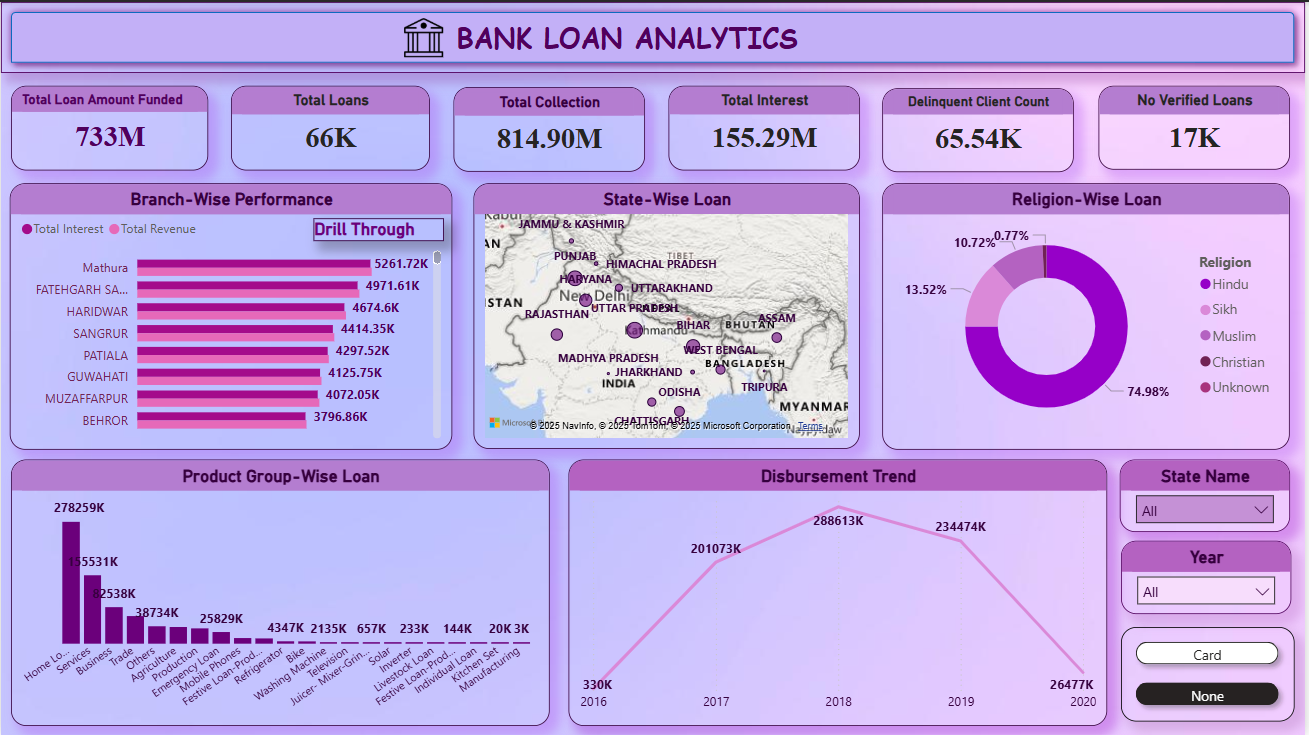

The dashboard page shown, as its layout file describes it:
{"tool":"tableau","page":{"name":"Dashboard 1","canvas":[1000,1000],"units":"permille","ordinal":0},"visuals":[{"type":"title","box":[4.8,10,919.7,64.9]},{"type":"filter","title":"State-Wise Performance","param":"[federated.1kfujmh1aarebc15erkji1qe8vi7].[none:State_Name:nk]","box":[924.6,10,70.6,295.2]},{"type":"worksheet","title":"Total loan amount funded","mark":"Text","box":[4.8,75.8,167.2,94.5]},{"type":"worksheet","title":"Total Collection","mark":"Automatic","box":[172,75.8,139.4,94.5]},{"type":"worksheet","title":"Total Loans","mark":"Automatic","box":[311.4,75.8,163,94.5]},{"type":"worksheet","title":"No Verified Loans","mark":"Automatic","box":[474.4,75.8,150.1,94.5]},{"type":"worksheet","title":"Default Loan Count","mark":"Automatic","box":[624.4,75.8,150.1,94.5]},{"type":"worksheet","title":"Total Interest","mark":"Automatic","box":[774.5,75.8,150.1,94.5]},{"type":"worksheet","title":"Religion-Wise Loan Distribution","mark":"Pie","box":[4.8,170.3,285.8,328.5]},{"type":"worksheet","title":"Loan Status-Wise Loan","mark":"Circle","rows":["Calculation_873416870375927813","Calculation_873416870375940103"],"box":[290.6,170.3,261.6,328.5]},{"type":"worksheet","title":"Product Group-Wise Loan","mark":"Bar","rows":["Loan_Amount"],"cols":["Purpose_Category"],"box":[552.2,170.3,372.3,328.5]},{"type":"filter","title":"Disbursement Trend","param":"[federated.1kfujmh1aarebc15erkji1qe8vi7].[mn:Disbursement_Date:qk]","box":[924.6,305.2,70.6,96.1]},{"type":"filter","title":"Loan Status-Wise Loan","param":"[federated.1kfujmh1aarebc15erkji1qe8vi7].[none:Loan_Status:nk]","box":[924.6,401.4,70.6,295.2]},{"type":"worksheet","title":"State-Wise Performance","mark":"Automatic","rows":["State_Name"],"cols":["Total_Fees"],"box":[4.8,498.8,285.8,491.2]},{"type":"worksheet","title":"State-Wise Loan Distribution","mark":"Automatic","box":[290.6,498.8,261.6,491.2]},{"type":"worksheet","title":"Disbursement Trend","mark":"Automatic","rows":["Loan_Amount"],"cols":["Disbursement_Date"],"box":[552.2,498.8,372.4,491.2]},{"type":"filter","title":"State-Wise Performance","param":"[federated.1kfujmh1aarebc15erkji1qe8vi7].[none:Grade:nk]","box":[924.6,696.6,70.6,293.4]}]}

Visuals, with their boxes on the dashboard's canvas, which has no fixed pixel size, in thousandths of its width and height (x1, y1, x2, y2). These are canvas units, not pixel positions in the 1309x735 screenshot, which may show the page scaled, cropped or inside an application window:
title: [x1=5, y1=10, x2=924, y2=75]
"State-Wise Performance" filter: [x1=925, y1=10, x2=995, y2=305]
"Total loan amount funded" worksheet (Text marks): [x1=5, y1=76, x2=172, y2=170]
"Total Collection" worksheet: [x1=172, y1=76, x2=311, y2=170]
"Total Loans" worksheet: [x1=311, y1=76, x2=474, y2=170]
"No Verified Loans" worksheet: [x1=474, y1=76, x2=624, y2=170]
"Default Loan Count" worksheet: [x1=624, y1=76, x2=774, y2=170]
"Total Interest" worksheet: [x1=774, y1=76, x2=925, y2=170]
"Religion-Wise Loan Distribution" worksheet (Pie marks): [x1=5, y1=170, x2=291, y2=499]
"Loan Status-Wise Loan" worksheet (Circle marks): [x1=291, y1=170, x2=552, y2=499]
"Product Group-Wise Loan" worksheet (Bar marks): [x1=552, y1=170, x2=924, y2=499]
"Disbursement Trend" filter: [x1=925, y1=305, x2=995, y2=401]
"Loan Status-Wise Loan" filter: [x1=925, y1=401, x2=995, y2=697]
"State-Wise Performance" worksheet: [x1=5, y1=499, x2=291, y2=990]
"State-Wise Loan Distribution" worksheet: [x1=291, y1=499, x2=552, y2=990]
"Disbursement Trend" worksheet: [x1=552, y1=499, x2=925, y2=990]
"State-Wise Performance" filter: [x1=925, y1=697, x2=995, y2=990]
